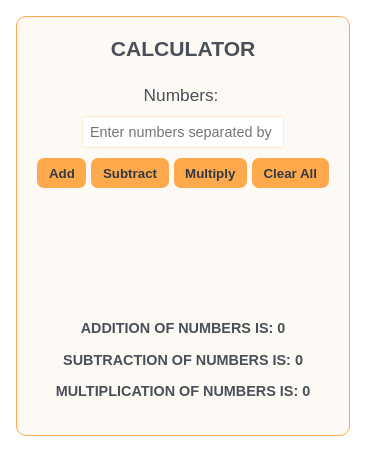
Test: Calculator App › addition functionality works correctly
Type "1,5" into the field labelled "Numbers:" at (183, 132), box [82, 116, 284, 148]
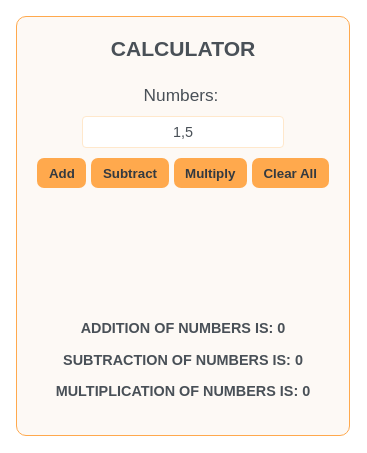
Click the button "Add" at (62, 173), box [38, 158, 86, 188]
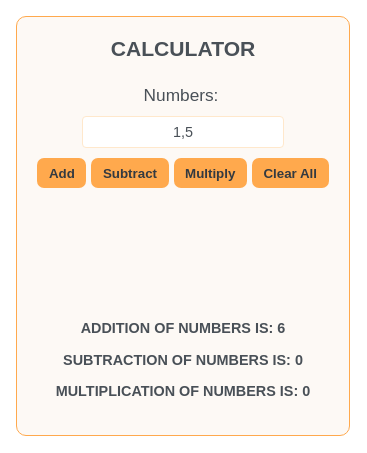
expect the heading "Addition of numbers is: 6" is shown: met, box [81, 320, 285, 336]
